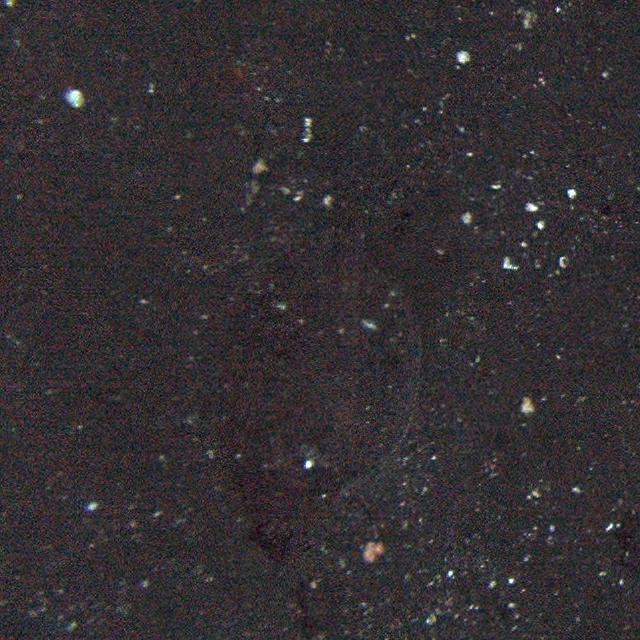flatfish: (190, 194, 426, 562)
